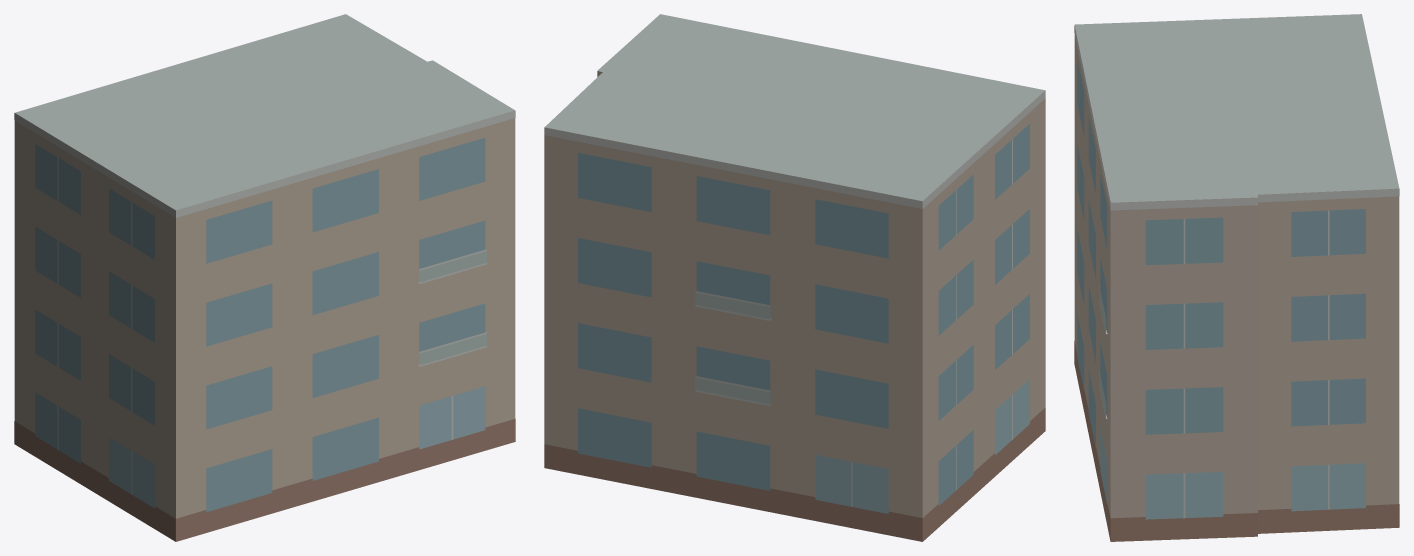
File: survey-upis-33025180.glb
3 views of the same model, side by side, from view 1: azimuth 30°, elevation 25°; view 2: azimuth 150°, elevation 25°; view 3: azimuth 270°, elevation 25° (orthographic). The views are drawn at different scales.
Visible parts, largest first — view 1: survey-upis-33025180.tmp; view 2: survey-upis-33025180.tmp; view 3: survey-upis-33025180.tmp.
Boxes of the visible parts, x1,y1,x2,y2 form: survey-upis-33025180.tmp: (14,14,515,541); survey-upis-33025180.tmp: (544,14,1045,541); survey-upis-33025180.tmp: (1074,14,1399,541).
Size of the model in its own units: 12.78 by 10.7 by 9.31.
